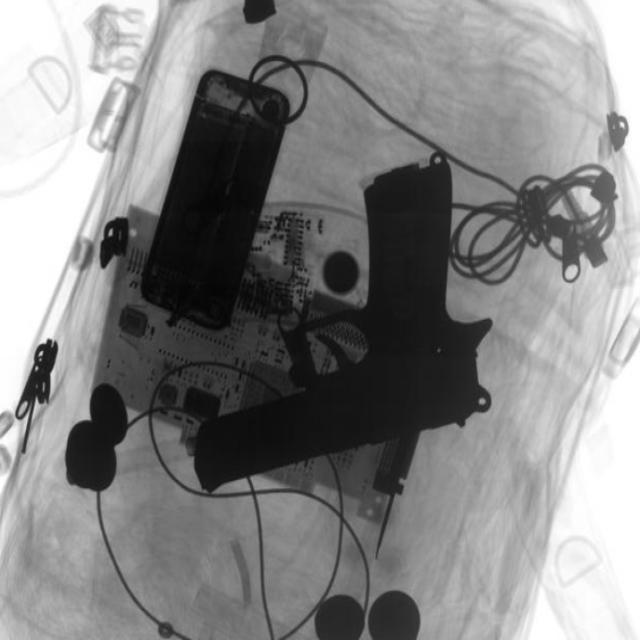GUN: (158, 155, 500, 510)
